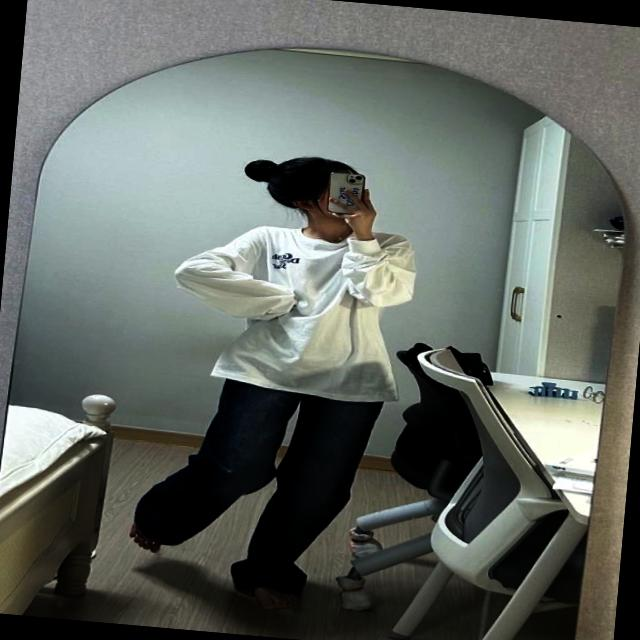denimpants: (130, 368, 386, 598)
mtm: (162, 216, 418, 406)
